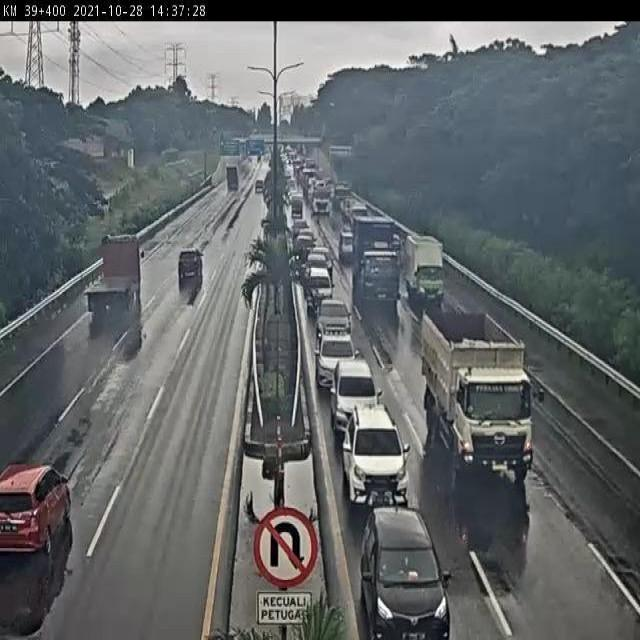big truck: (418, 308, 536, 472), (82, 234, 146, 318), (348, 212, 396, 303)
car: (358, 504, 454, 640), (0, 461, 73, 560), (340, 401, 406, 507), (332, 356, 380, 436), (312, 328, 358, 391), (316, 295, 354, 341), (304, 262, 333, 310), (177, 250, 205, 282)
small truck: (406, 233, 446, 304)
